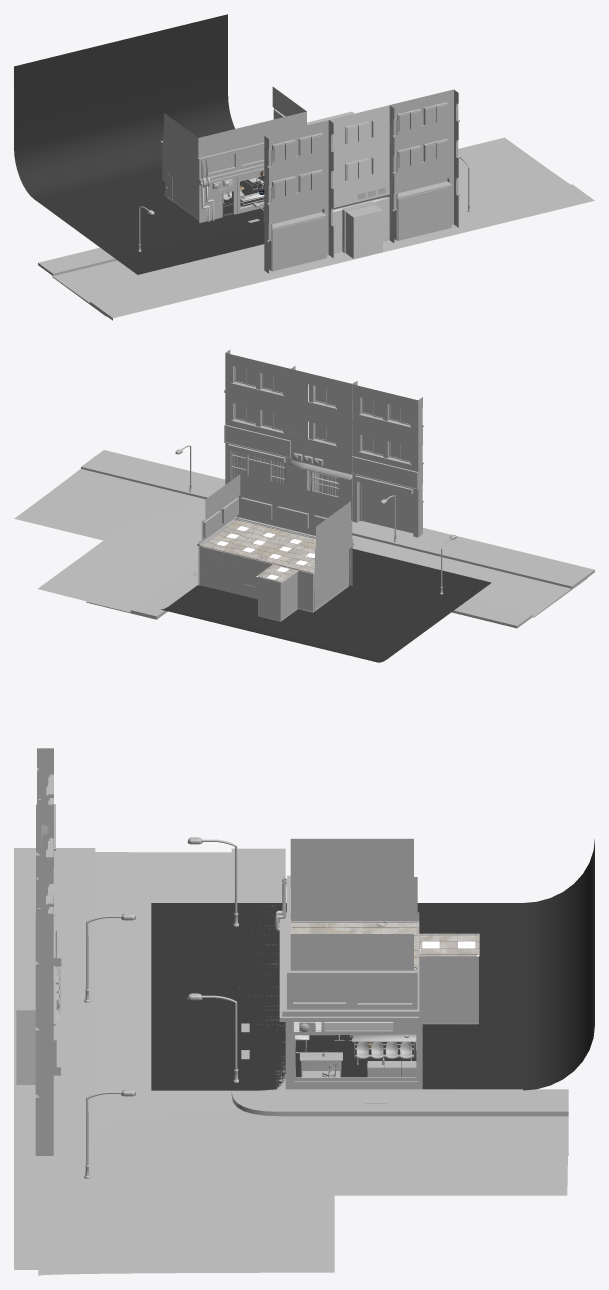
File: Building_2.fbx
3 renders of one model, top to bottom at view 1: azimuth 30°, elevation 25°; view 2: azimuth 150°, elevation 25°; view 3: azimuth 270°, elevation 25°, orthographic. The views are drawn at different scales.
Visible parts, largest first — view 1: Plane, Building_3, Street_Floor_02, model.004, Street_Floor_03, model.005, Laundromat_level2, staff, Building_2, Street_Floor_01, Building_1; view 2: Street_Floor_02, Plane, Building_3, Street_Floor_03, Building_1, Laundromat_level2, Building_2, staff, Roof, Street_Floor_01, model.004, model.005 (+1 smaller); view 3: Street_Floor_02, Plane, Street_Floor_03, Laundromat_level2, Street_Floor_01, staff, Building_1, model.004, Roof, Building_3, model.005, Building_2 (+4 smaller).
Part boxes in pixels (x1,y1,x2,y2): Plane: [14, 14, 264, 274]; Building_3: [263, 120, 334, 273]; Street_Floor_02: [52, 111, 590, 316]; model.004: [390, 89, 459, 242]; Street_Floor_03: [90, 184, 594, 320]; model.005: [329, 105, 393, 258]; Laundromat_level2: [162, 86, 306, 185]; staff: [162, 141, 264, 222]; Building_2: [333, 106, 394, 257]; Street_Floor_01: [38, 247, 117, 275]; Building_1: [393, 90, 458, 242]; Street_Floor_02: [14, 456, 587, 617]; Plane: [161, 549, 491, 662]; Building_3: [351, 381, 423, 537]; Street_Floor_03: [81, 450, 594, 589]; Building_1: [224, 353, 290, 486]; Laundromat_level2: [197, 474, 354, 574]; Building_2: [289, 366, 355, 520]; staff: [198, 517, 352, 620]; Roof: [202, 520, 315, 582]; Street_Floor_01: [130, 561, 532, 628]; model.004: [224, 349, 290, 485]; model.005: [291, 366, 352, 520]; Street_Floor_02: [38, 852, 568, 1275]; Plane: [151, 839, 594, 1090]; Street_Floor_03: [14, 848, 95, 1269]; Laundromat_level2: [279, 838, 419, 1021]; Street_Floor_01: [231, 848, 568, 1116]; staff: [285, 922, 478, 1089]; Building_1: [35, 867, 60, 1155]; model.004: [35, 857, 60, 1155]; Roof: [291, 922, 479, 1009]; Building_3: [36, 748, 61, 966]; model.005: [16, 805, 49, 1084]; Building_2: [16, 804, 60, 1018].
Size of the model in its own units: 4683 by 1282 by 2711.
